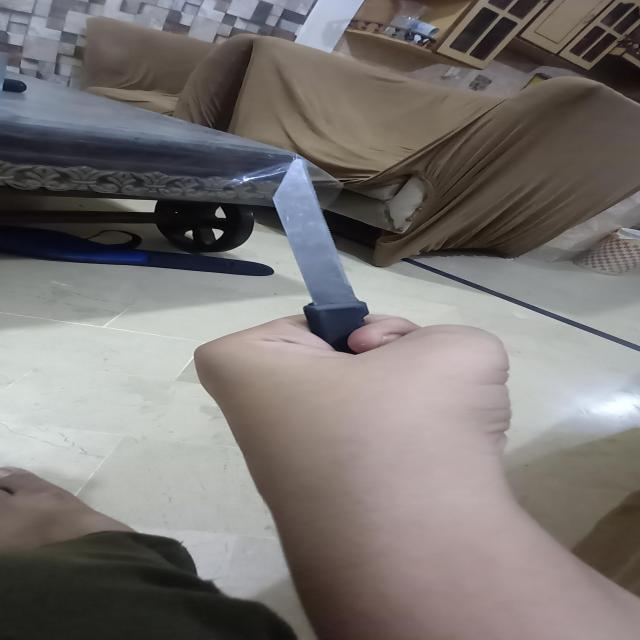Knife: (275, 153, 401, 379)
